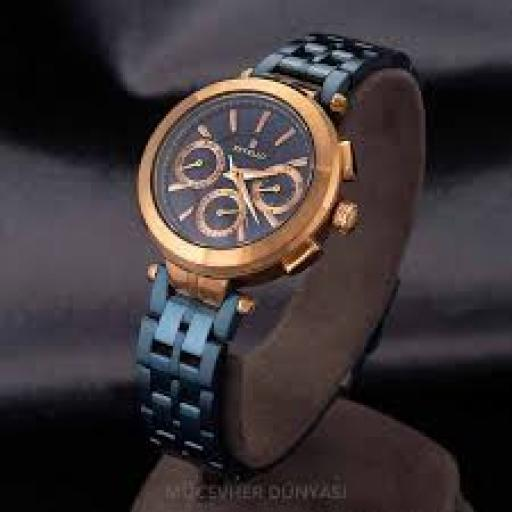KolSaati: (77, 18, 451, 483)
